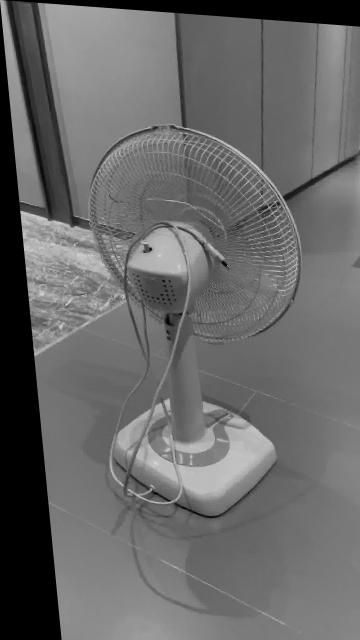Fan: (85, 124, 297, 517)
